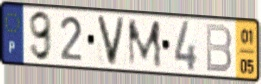2: (59, 14, 84, 63)
4: (172, 19, 200, 74)
9: (27, 10, 54, 64)
B: (204, 22, 234, 75)
M: (126, 19, 164, 70)
V: (94, 13, 128, 69)
